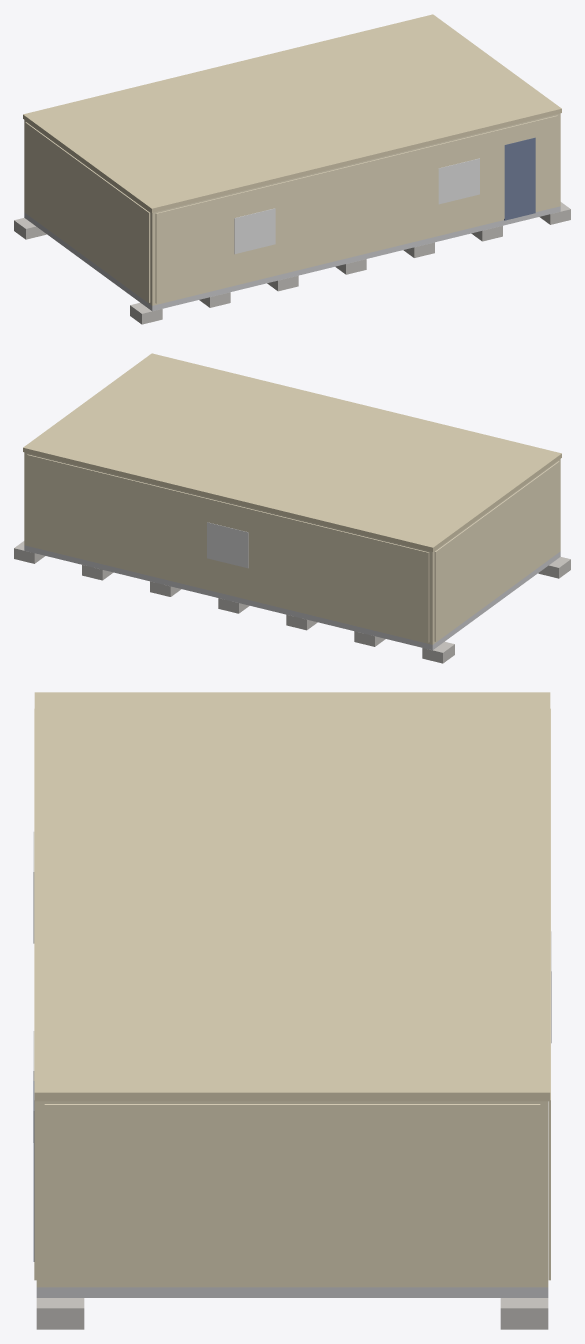
Rendered from Studio-40-Base-MicroGrainYellowSlate-LOD1.glb.
3 renders of one model, top to bottom at view 1: azimuth 30°, elevation 25°; view 2: azimuth 150°, elevation 25°; view 3: azimuth 270°, elevation 25°, orthographic. The views are drawn at different scales.
Visible parts, largest first — view 1: RoofMain, ExteriorPanelsStandard, BaseFrame, WindowsStandard, ExteriorShell, FoundationBlocks, EntryDoor; view 2: RoofMain, ExteriorPanelsStandard, BaseFrame, ExteriorShell, FoundationBlocks, WindowsStandard; view 3: RoofMain, ExteriorPanelsStandard, ExteriorShell, BaseFrame, FoundationBlocks.
Boxes of the visible parts, x1,y1,x2,y2 form: RoofMain: [23, 14, 561, 212]; ExteriorPanelsStandard: [25, 115, 557, 303]; BaseFrame: [24, 206, 560, 311]; WindowsStandard: [234, 158, 479, 254]; ExteriorShell: [24, 113, 560, 305]; FoundationBlocks: [14, 202, 570, 324]; EntryDoor: [504, 137, 535, 220]; RoofMain: [23, 353, 561, 551]; ExteriorPanelsStandard: [27, 454, 559, 642]; BaseFrame: [24, 545, 560, 650]; ExteriorShell: [24, 452, 560, 644]; FoundationBlocks: [14, 541, 570, 663]; WindowsStandard: [207, 522, 248, 568]; RoofMain: [34, 692, 550, 1101]; ExteriorPanelsStandard: [34, 708, 550, 1284]; ExteriorShell: [36, 1101, 548, 1287]; BaseFrame: [36, 1287, 548, 1297]; FoundationBlocks: [36, 1298, 548, 1329].
Bounding box in the file's own units: 12.49 × 3.17 × 6.53.
